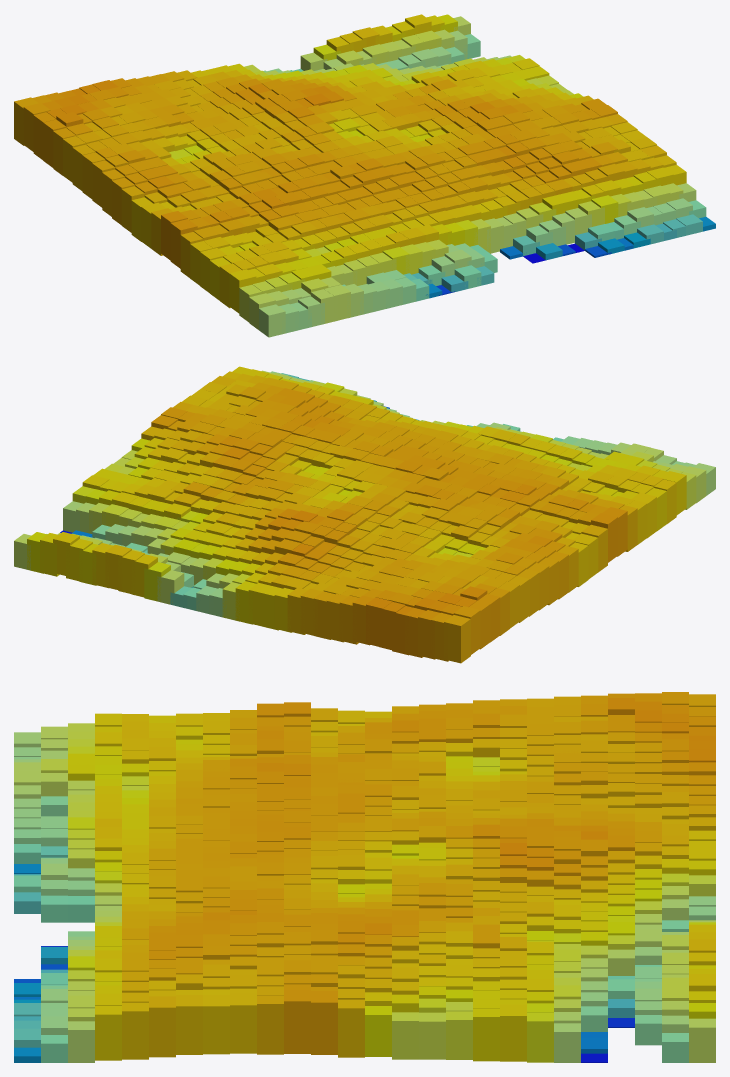
File: population.glb
3 views of the same model, one above another, from view 1: azimuth 30°, elevation 25°; view 2: azimuth 150°, elevation 25°; view 3: azimuth 270°, elevation 25° (orthographic). The views are drawn at different scales.
Parts seen in each view (by area): view 1: population; view 2: population; view 3: population.
Part boxes in pixels (<box>): population: <box>14,14,715,337</box>; population: <box>14,366,715,663</box>; population: <box>14,692,715,1062</box>.
Bounding box in the file's own units: 2628 × 306 × 2594.
